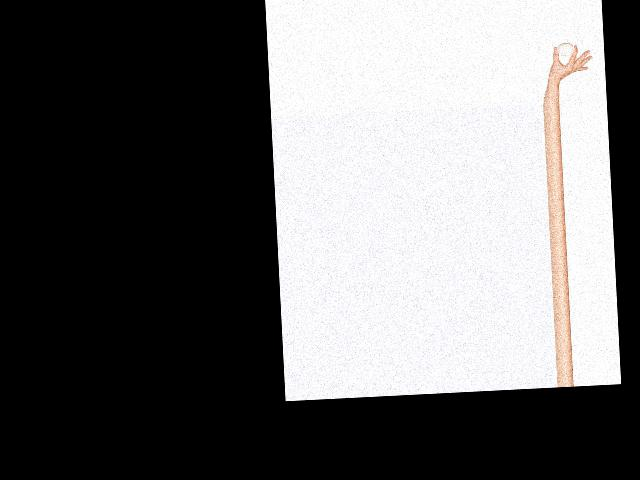egg: (556, 41, 574, 56)
